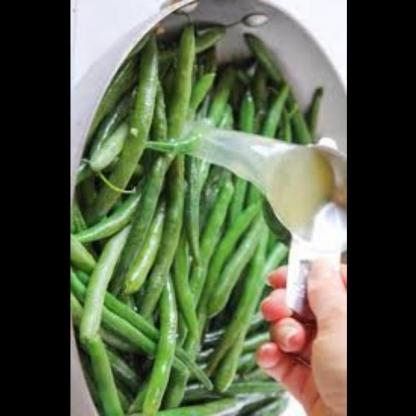beans: (78, 19, 296, 416)
